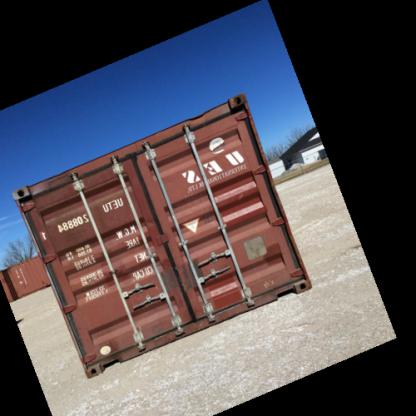Damage: (160, 257, 212, 289), (139, 207, 168, 236), (42, 168, 82, 189), (183, 103, 214, 125), (256, 270, 282, 292), (233, 185, 247, 203)
